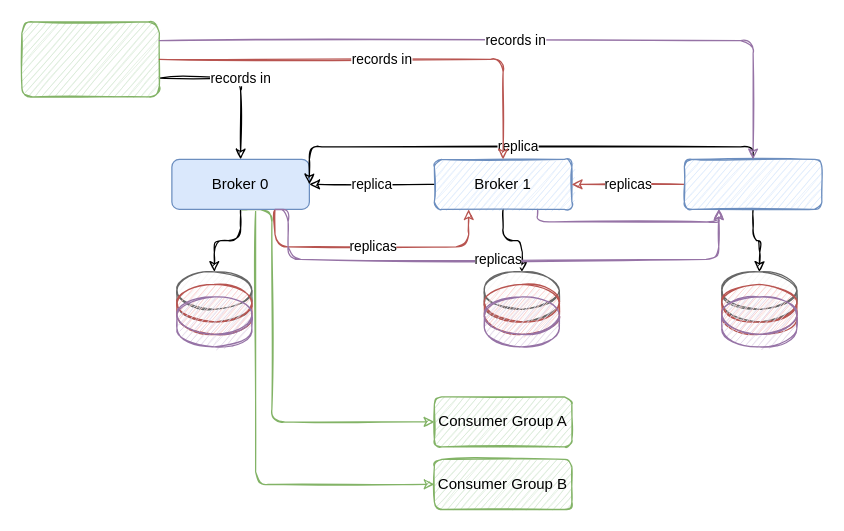
Some shapes in this 844 by 531 pixel diagram are drawn without their labels. Each missing label, with the centre of its shape:
"Broker 2" belongs at pixel 752 183.
"Producer" belongs at pixel 90 59.
